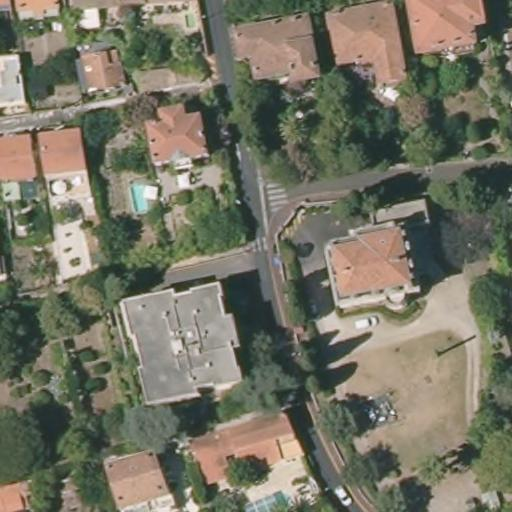pool: (233, 486, 294, 509), (127, 180, 158, 219)
